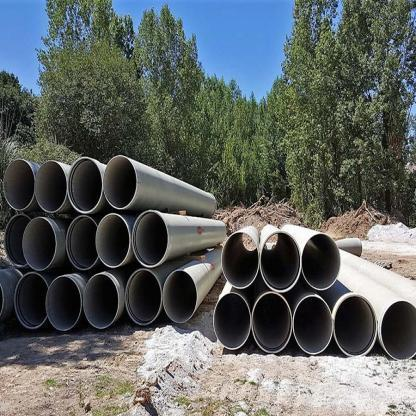pipe: (332, 292, 380, 359), (258, 230, 303, 294), (250, 290, 293, 356), (290, 294, 335, 356), (122, 266, 164, 328), (300, 232, 343, 292), (129, 208, 171, 269), (212, 290, 252, 352), (80, 272, 122, 330), (220, 230, 260, 290), (378, 298, 416, 361), (160, 267, 199, 325), (94, 211, 133, 269), (44, 274, 83, 332), (13, 271, 50, 331), (67, 156, 104, 214), (20, 216, 58, 272), (102, 154, 139, 210), (64, 214, 99, 272), (33, 160, 69, 214), (1, 157, 36, 212), (4, 212, 30, 269)
